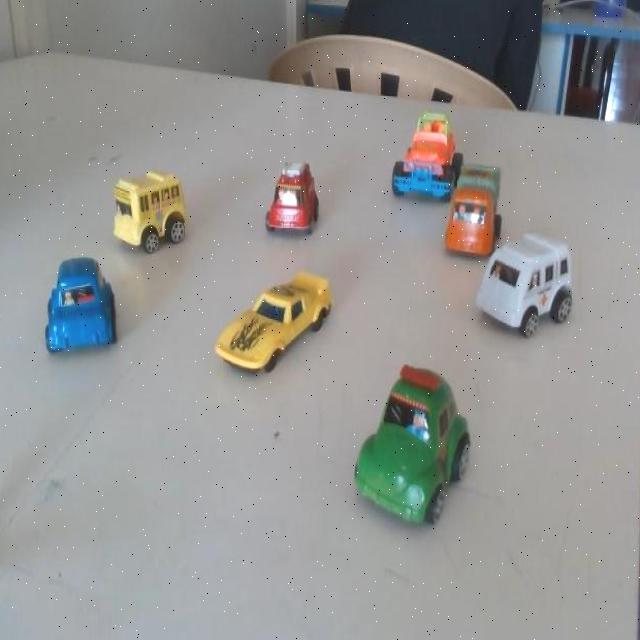car: (354, 369, 480, 520), (472, 220, 577, 350), (219, 271, 335, 378), (379, 102, 459, 204), (43, 258, 116, 354), (118, 170, 195, 260), (444, 153, 506, 263), (264, 153, 330, 250)
